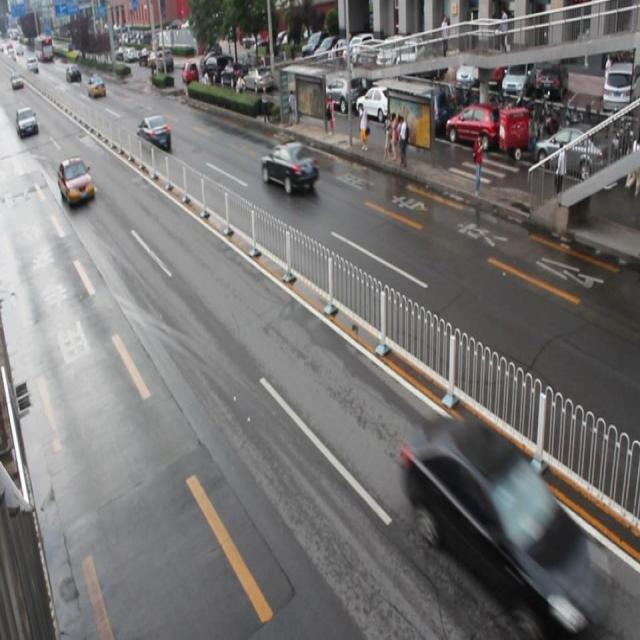car: (400, 417, 595, 622), (260, 139, 318, 190), (57, 156, 96, 208), (137, 112, 170, 153)
